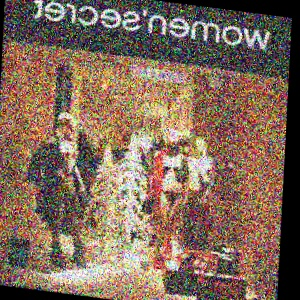women_secret: (271, 17, 290, 22)
